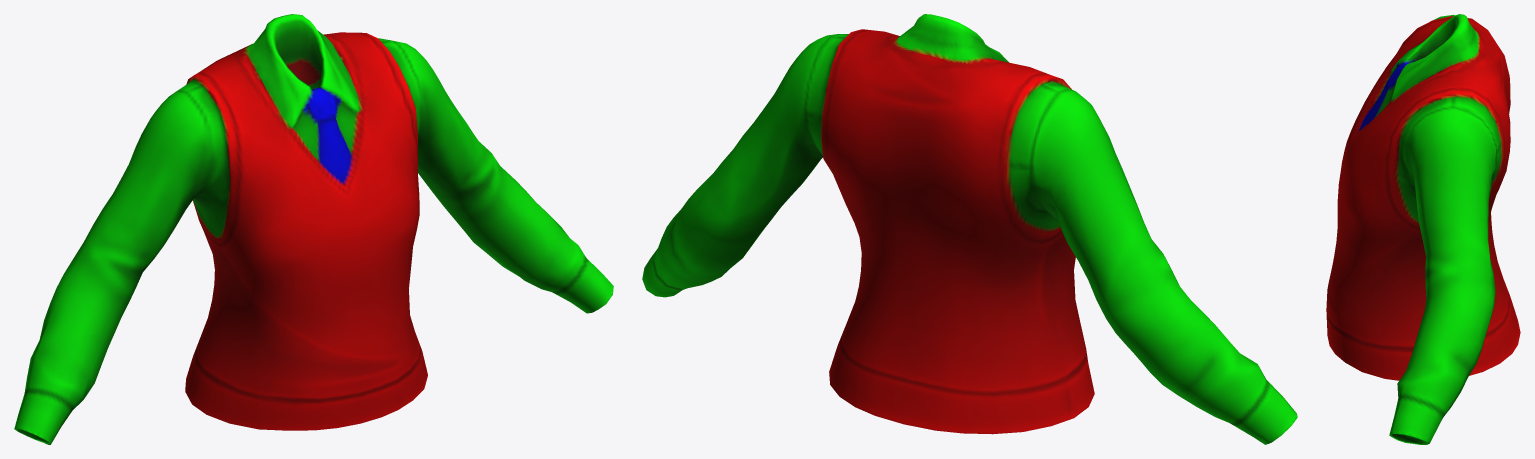
File: Top_SweaterVest.obj
3 renders of one model, left to right at view 1: azimuth 30°, elevation 25°; view 2: azimuth 150°, elevation 25°; view 3: azimuth 270°, elevation 25°, orthographic. The views are drawn at different scales.
Visible parts, largest first — view 1: Top_SweaterVest_0; view 2: Top_SweaterVest_0; view 3: Top_SweaterVest_0.
Boxes of the visible parts, x1,y1,x2,y2 form: Top_SweaterVest_0: [14, 14, 613, 444]; Top_SweaterVest_0: [642, 14, 1297, 444]; Top_SweaterVest_0: [1326, 14, 1520, 444].
Bounding box in the file's own units: 0.8782 × 0.5005 × 0.2772.
Materials: 1 (1 with a texture image).
